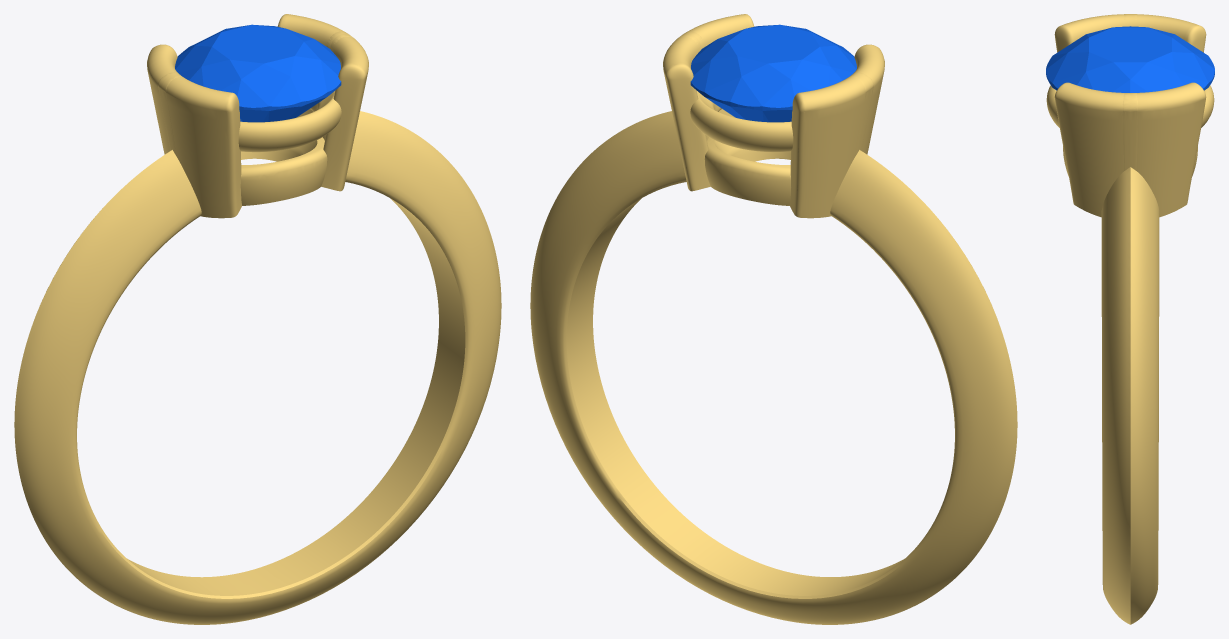
The model's file is bluesapphire-round-yellowgold-halfmoonbezel-knifeedge-nosidestones.glb.
3 renders of one model, left to right at view 1: azimuth 30°, elevation 25°; view 2: azimuth 150°, elevation 25°; view 3: azimuth 270°, elevation 25°, orthographic. The views are drawn at different scales.
Visible parts, largest first — view 1: metal, stone; view 2: metal, stone; view 3: metal, stone.
Boxes of the visible parts, x1,y1,x2,y2 form: metal: [14, 14, 501, 624]; stone: [175, 24, 341, 122]; metal: [530, 14, 1017, 624]; stone: [690, 24, 856, 122]; metal: [1046, 14, 1214, 624]; stone: [1046, 26, 1214, 92].
Size of the model in its own units: 20.7 by 23.31 by 6.44.
